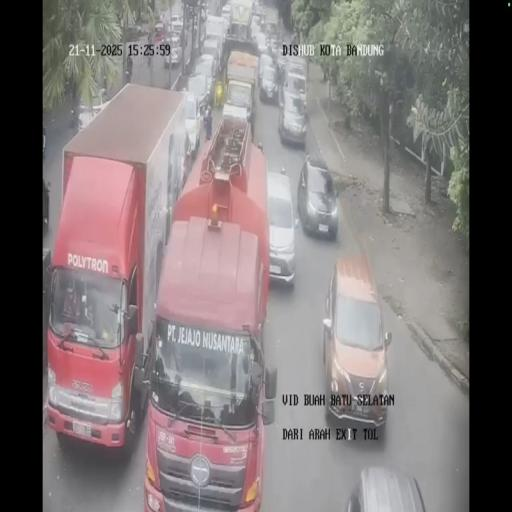3: (47, 82, 193, 454), (77, 92, 109, 132), (204, 14, 227, 65), (124, 25, 143, 40)
car: (190, 57, 216, 107), (283, 60, 307, 113), (258, 53, 274, 90), (250, 11, 262, 43), (276, 53, 287, 79), (221, 4, 231, 28), (154, 20, 165, 40), (270, 36, 280, 57), (170, 14, 182, 29)
